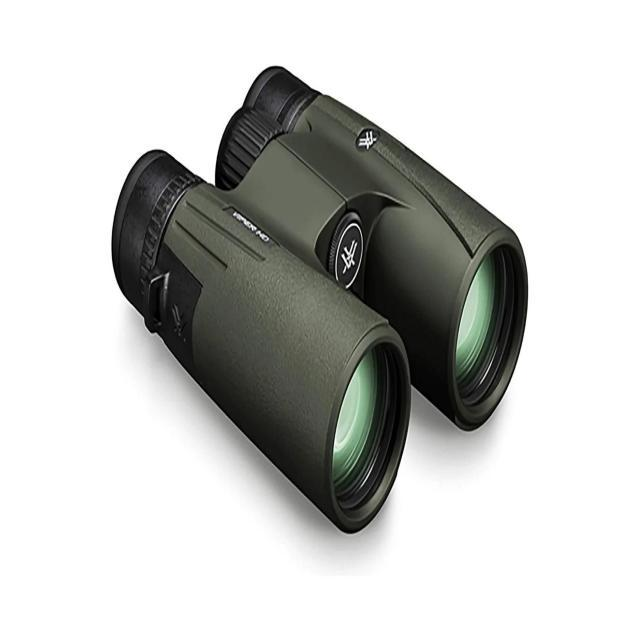Binocular: (100, 55, 534, 538)
